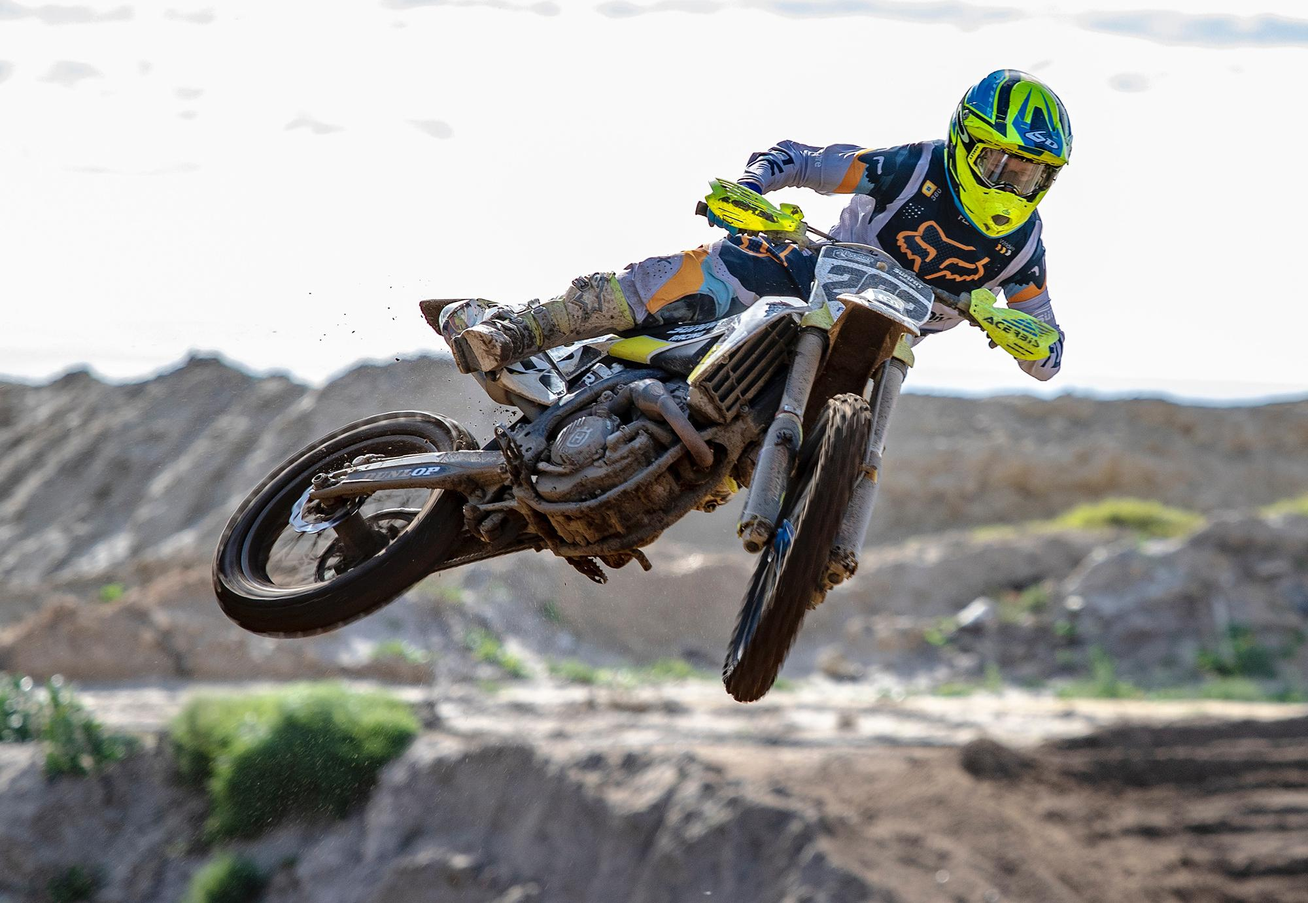helmet: (943, 68, 1074, 241)
